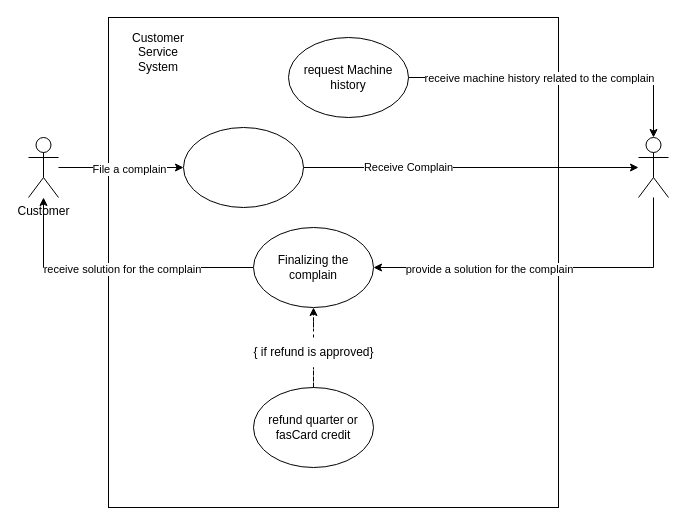
Some shapes in this 686 by 525 pixel diagram are drawn without their labels. Here are the shapes that lost their labels. From the top down, the centre of each, then its label:
At [243,167]: "File a complaint".
At [653,167]: "Staff".
